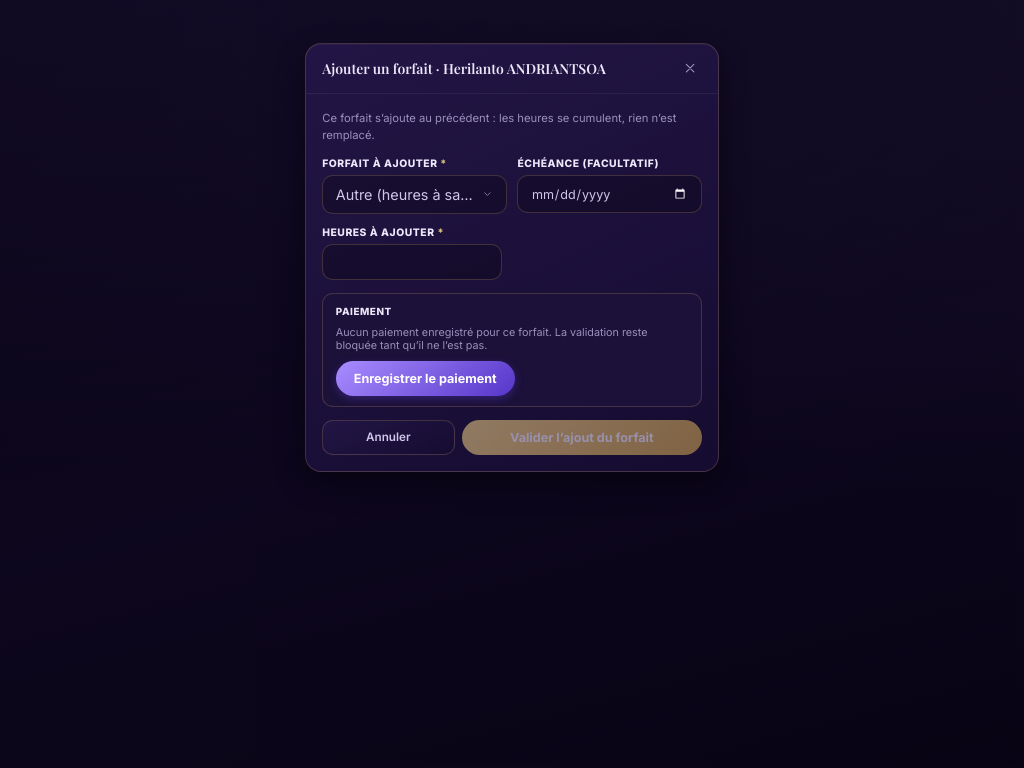
AjouterForfaitModale — liste des forfaits HOC › choisir une formule remplit les heures ET le prix du paiement
The image size is (1024, 768).
What coordinates should you click on to do the following:
click the button named "Forfait à ajouter"
I would click on:
 (414, 194)
Its box is x1=322 y1=175 x2=507 y2=214.
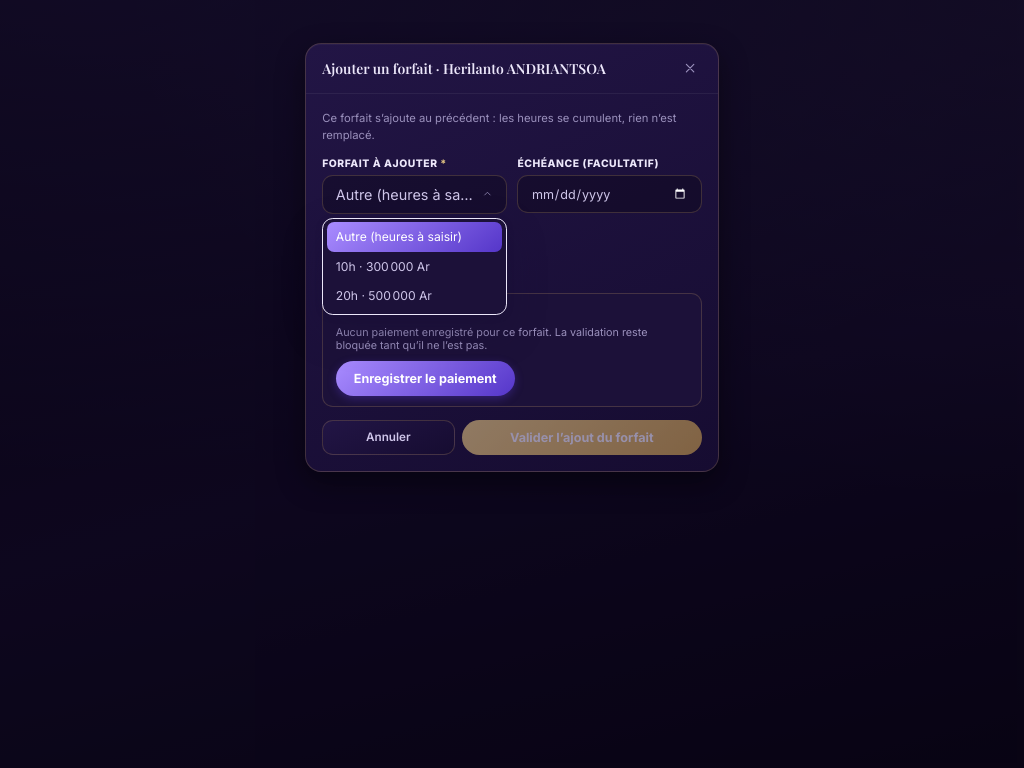
What coordinates should you click on to do the following:
click the option "20h · 500 000 Ar"
I would click on:
 (414, 296)
Its box is x1=327 y1=281 x2=502 y2=310.
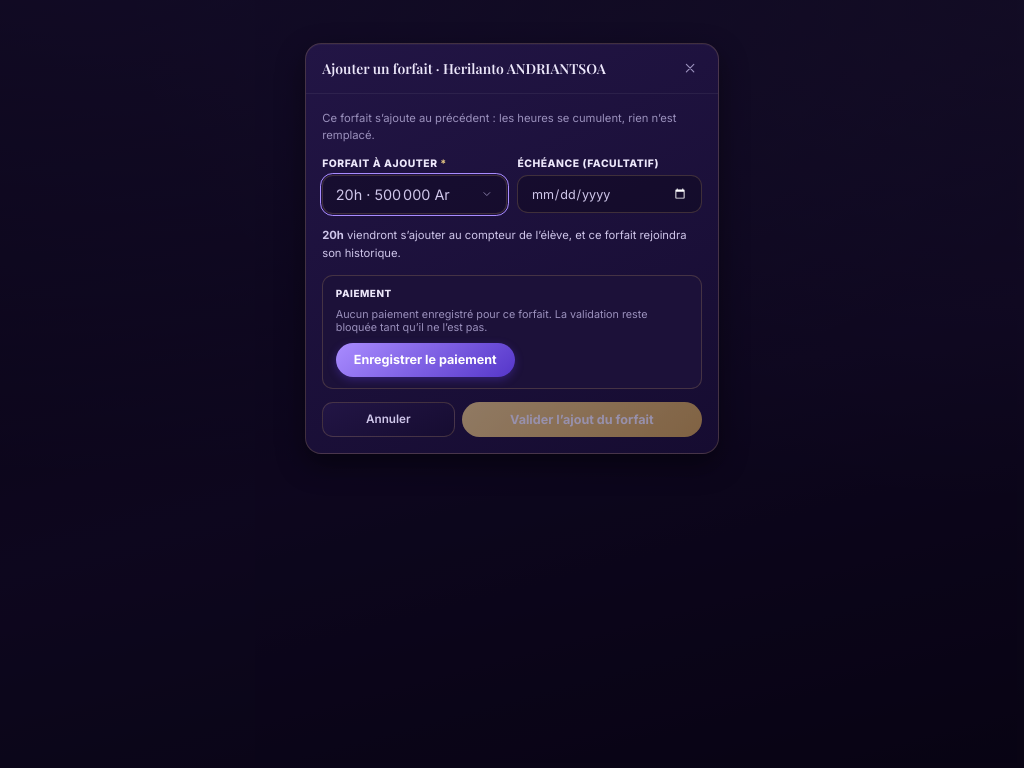
Expected: the element that starts with "20h" is shown, x1=322 y1=226 x2=702 y2=262
What coordinates should you click on to do the following:
click the button "Enregistrer le paiement"
I would click on:
 (425, 360)
Its box is x1=336 y1=343 x2=515 y2=377.
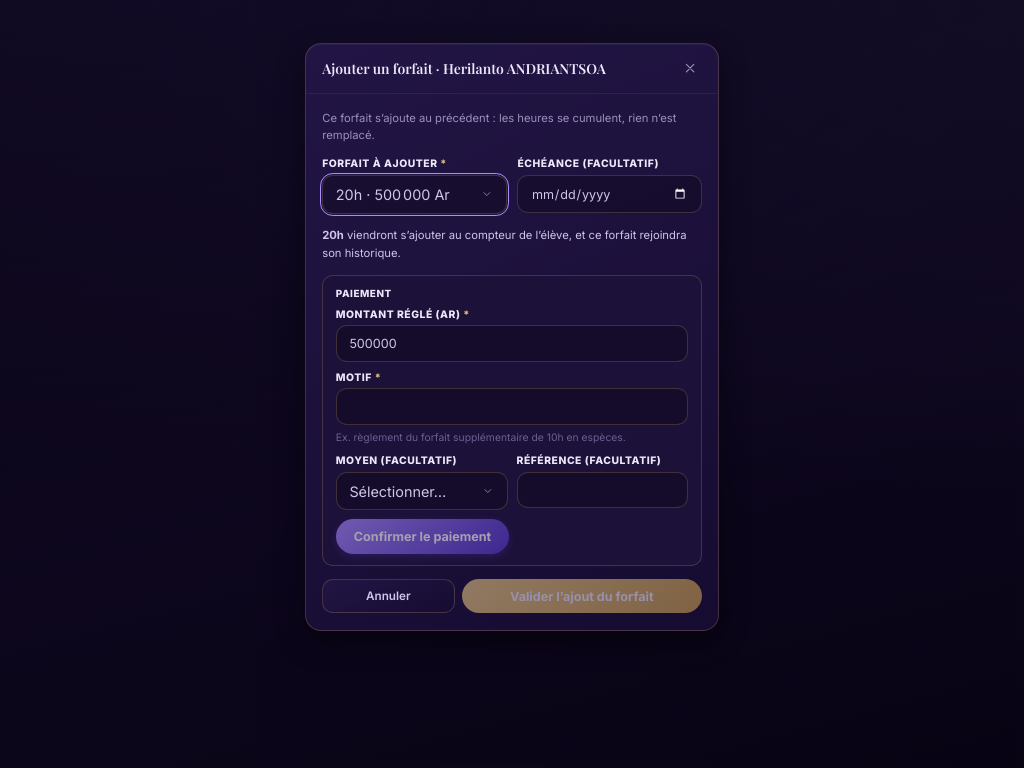
Expected: the number field labelled "Montant réglé (Ar) *" holds "500000", x1=336 y1=325 x2=688 y2=362
